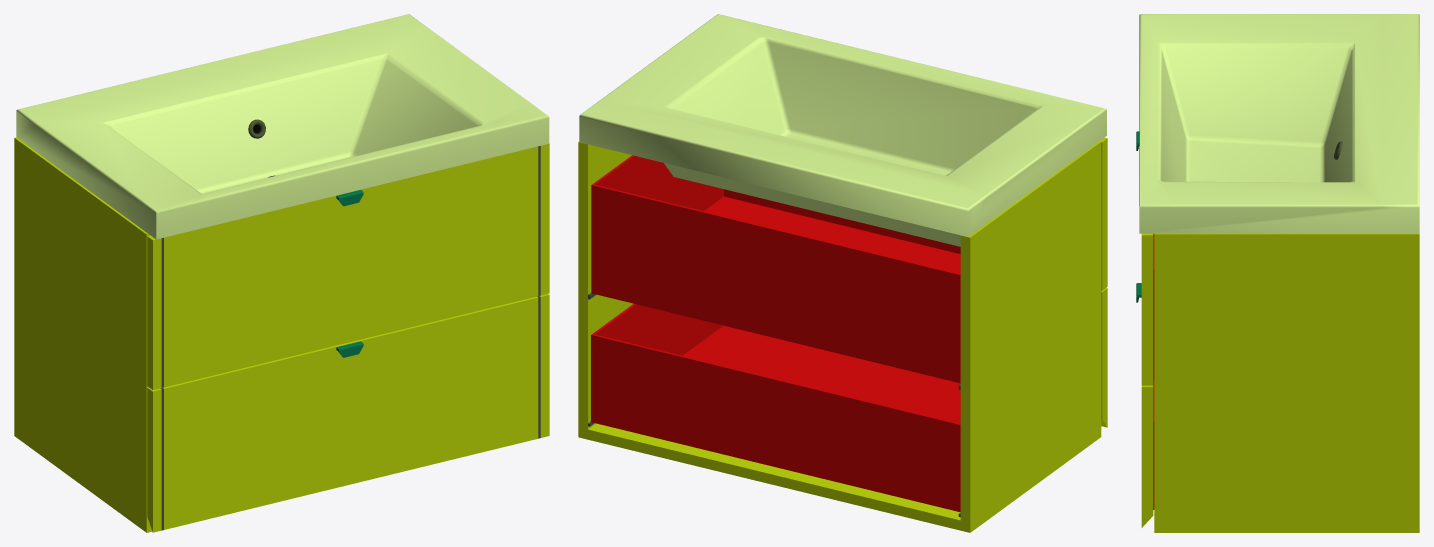
The model's file is bath tumb.FBX.
3 renders of one model, left to right at view 1: azimuth 30°, elevation 25°; view 2: azimuth 150°, elevation 25°; view 3: azimuth 270°, elevation 25°, orthographic.
Visible parts, largest first — view 1: Sink, Tomb box1, Tomb box2, Bath tumb; view 2: Sink, Bath tumb, Tomb box1, Tomb box2; view 3: Bath tumb, Sink, Tomb box1, Tomb box2.
Part boxes in pixels (x1,y1,x2,y2): Sink: (16, 14, 549, 239); Tomb box1: (147, 143, 549, 389); Tomb box2: (147, 294, 549, 532); Bath tumb: (14, 137, 152, 532); Sink: (579, 14, 1106, 246); Bath tumb: (578, 141, 1101, 532); Tomb box1: (591, 137, 1107, 383); Tomb box2: (591, 288, 1107, 511); Bath tumb: (1154, 233, 1419, 532); Sink: (1139, 14, 1419, 233); Tomb box1: (1136, 131, 1154, 385); Tomb box2: (1136, 283, 1154, 527).
Size of the model in its own units: 31.78 by 25 by 19.64.
